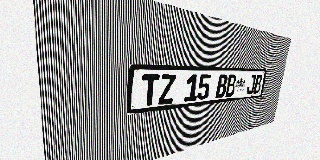1: (184, 74, 199, 102)
5: (197, 74, 211, 100)
B: (215, 74, 228, 98), (225, 74, 237, 97), (253, 74, 263, 94)
J: (246, 74, 256, 95)
T: (141, 74, 160, 107)
Z: (158, 74, 176, 105)
